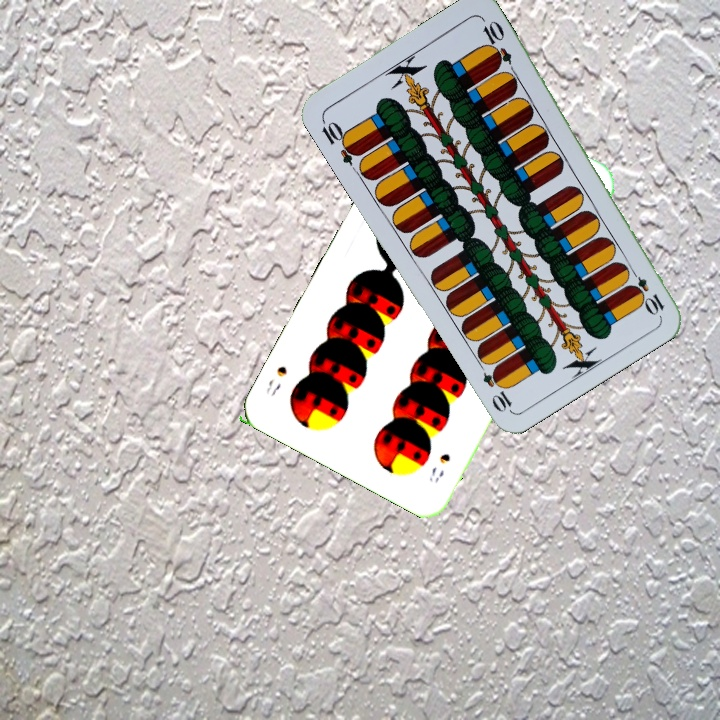E10: (317, 115, 363, 168), (624, 263, 667, 317)
S8: (425, 449, 453, 485)
